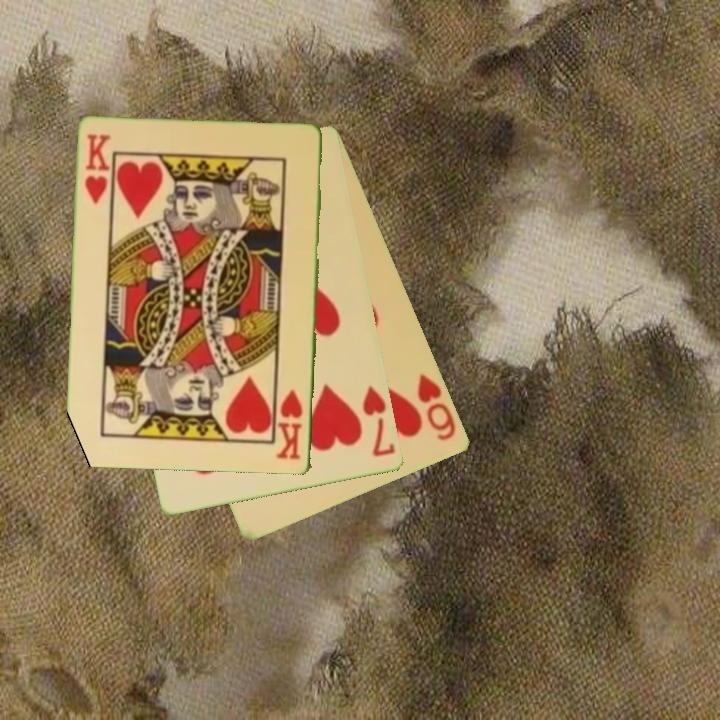6h: (414, 370, 460, 444)
7h: (359, 382, 399, 460)
Kh: (274, 386, 306, 463), (82, 131, 114, 207)
